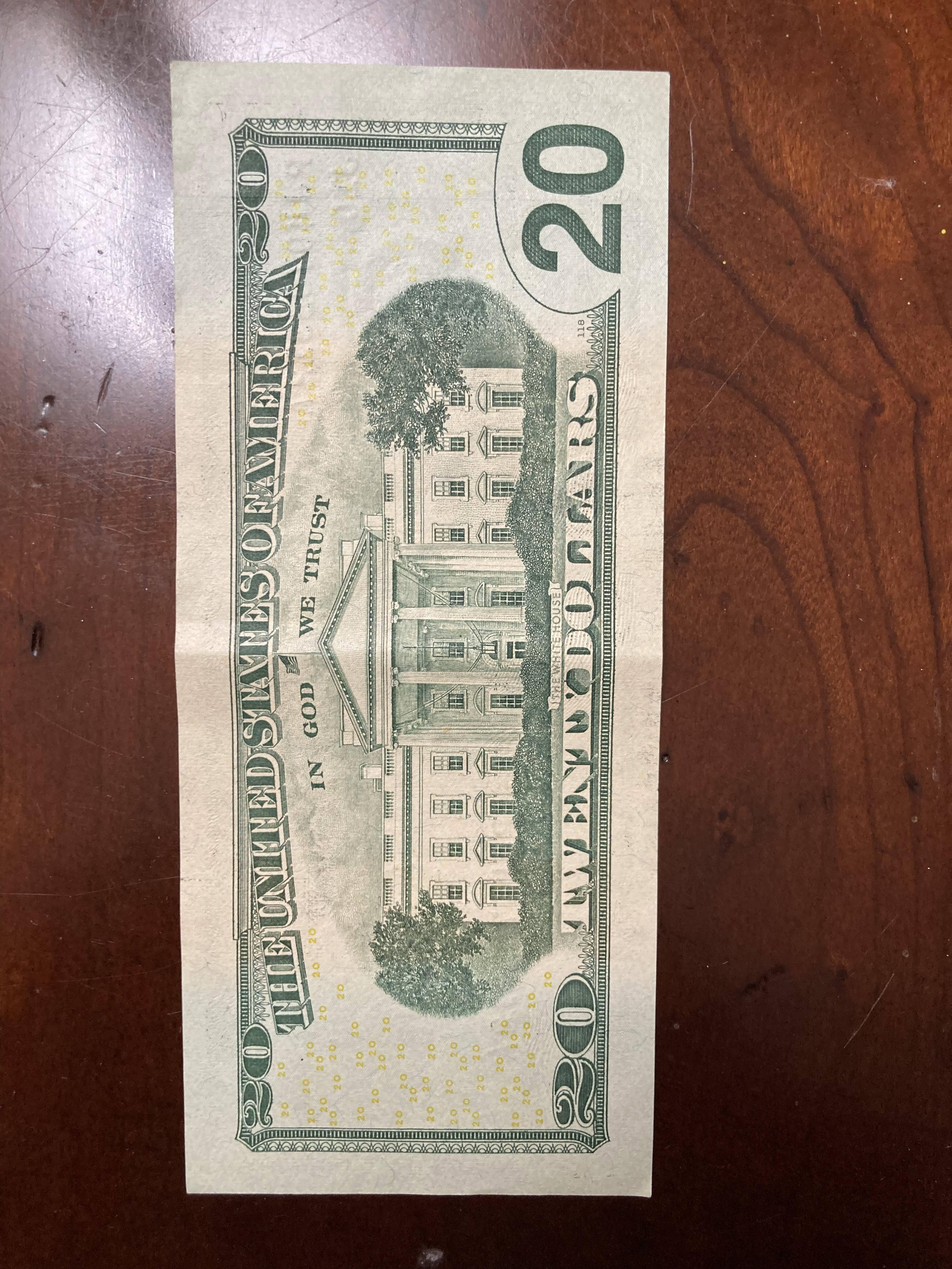twenty-back: (167, 63, 674, 1198)
